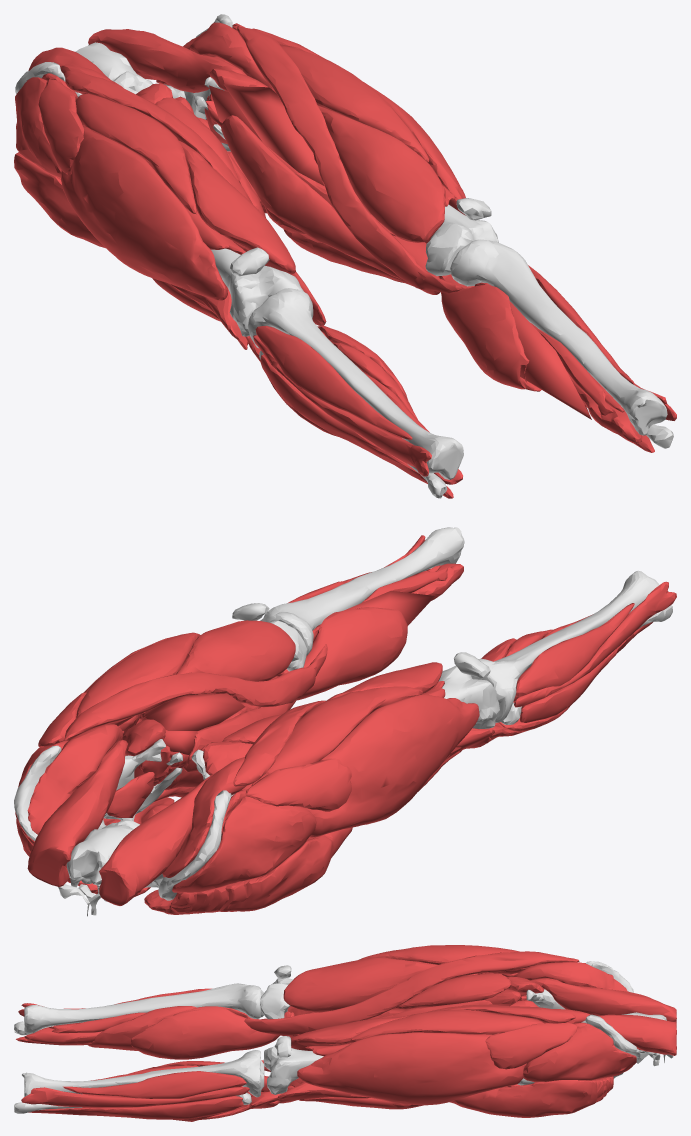
Rendered from FinalForm6.glb.
3 renders of one model, top to bottom at view 1: azimuth 30°, elevation 25°; view 2: azimuth 150°, elevation 25°; view 3: azimuth 270°, elevation 25°, orthographic. The views are drawn at different scales.
Parts seen in each view (by area): view 1: MC_bodycoil_vetted_L_tibialis_anterior; view 2: MC_bodycoil_vetted_L_tibialis_anterior; view 3: MC_bodycoil_vetted_L_tibialis_anterior.
Boxes of the visible parts, x1,y1,x2,y2 form: MC_bodycoil_vetted_L_tibialis_anterior: [14, 14, 676, 498]; MC_bodycoil_vetted_L_tibialis_anterior: [14, 527, 676, 916]; MC_bodycoil_vetted_L_tibialis_anterior: [14, 945, 676, 1121].
Size of the model in its own units: 37.19 by 17.85 by 100.
